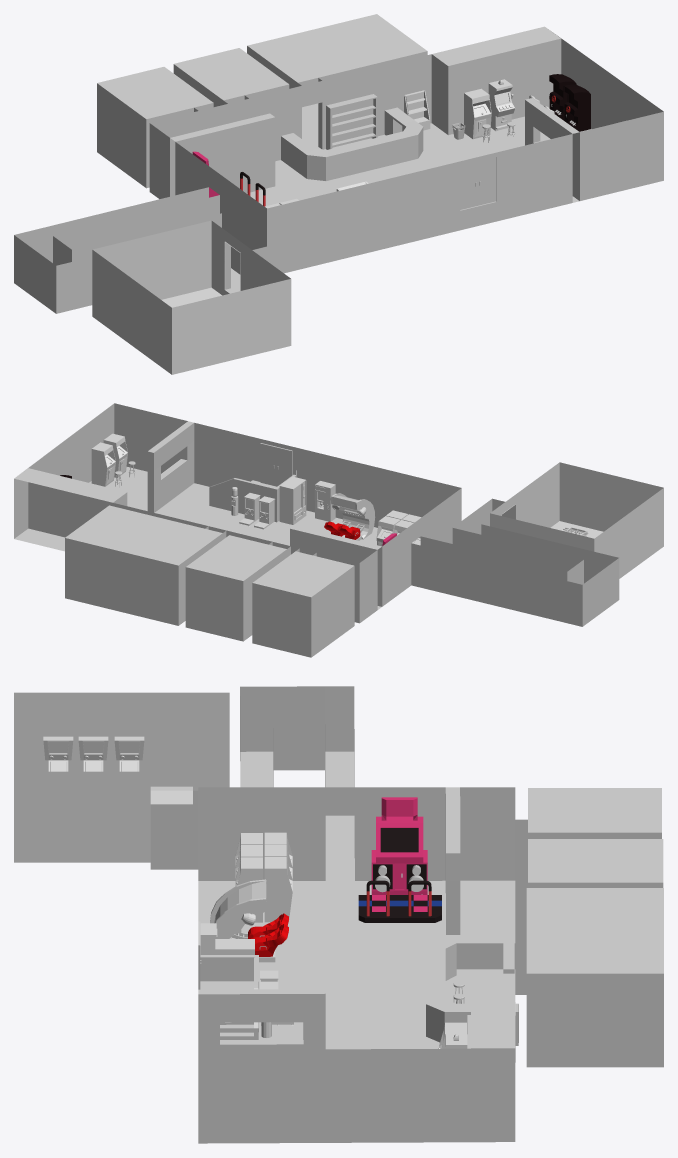
The model's file is room-arcade-machines.fbx.
The picture shows the model from 3 angles, top to bottom: view 1: azimuth 30°, elevation 25°; view 2: azimuth 150°, elevation 25°; view 3: azimuth 270°, elevation 25°; orthographic projection. The views are drawn at different scales.
Parts seen in each view (by area): view 1: Cube.001, Cube, Cube.002, Cube.003, Cube.016, Cube.078, Cube.015, Cube.090, Cube.077; view 2: Cube.001, Cube, Cube.033, Cylinder.021, Cube.057, Cube.089, Cube.054, Cube.008, Cube.009, Cube.094; view 3: Cube.001, Cube, Cube.002, Cube.074, Cylinder.021, Cube.072, Cube.094, Cube.028, Cube.023, Cube.022, Cube.095, Cube.040.
Part boxes in pixels (left/top/right/bottom): Cube.001: left=14, top=14, right=663, bottom=313; Cube: left=92, top=220, right=291, bottom=374; Cube.002: left=281, top=107, right=423, bottom=180; Cube.003: left=326, top=94, right=377, bottom=149; Cube.016: left=464, top=88, right=491, bottom=139; Cube.078: left=563, top=84, right=590, bottom=131; Cube.015: left=488, top=79, right=514, bottom=131; Cube.090: left=404, top=90, right=430, bottom=130; Cube.077: left=549, top=74, right=576, bottom=120; Cube.001: left=14, top=403, right=619, bottom=657; Cube: left=490, top=462, right=663, bottom=578; Cube.033: left=279, top=476, right=306, bottom=524; Cylinder.021: left=330, top=493, right=375, bottom=540; Cube.057: left=91, top=442, right=115, bottom=486; Cube.089: left=314, top=481, right=335, bottom=521; Cube.054: left=103, top=433, right=127, bottom=477; Cube.008: left=254, top=496, right=275, bottom=529; Cube.009: left=239, top=493, right=260, bottom=526; Cube.094: left=376, top=516, right=400, bottom=546; Cube.001: left=150, top=686, right=663, bottom=1143; Cube: left=14, top=692, right=229, bottom=862; Cube.002: left=426, top=935, right=518, bottom=1045; Cube.074: left=371, top=797, right=427, bottom=894; Cylinder.021: left=210, top=879, right=275, bottom=962; Cube.072: left=358, top=895, right=441, bottom=922; Cube.094: left=264, top=857, right=292, bottom=922; Cube.028: left=114, top=736, right=144, bottom=771; Cube.023: left=78, top=736, right=108, bottom=771; Cube.022: left=43, top=736, right=73, bottom=771; Cube.095: left=235, top=857, right=262, bottom=922; Cube.040: left=251, top=924, right=288, bottom=956.
Bounding box in the file's own units: 2851 × 357 × 1999.
